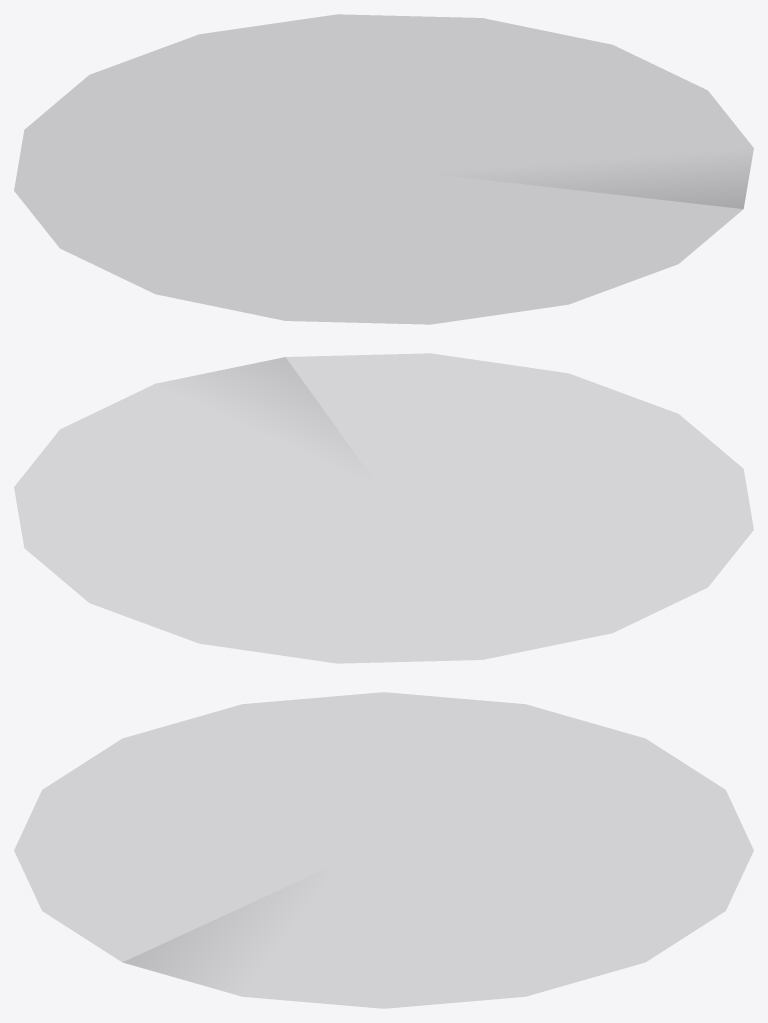
The picture shows the model from 3 angles, top to bottom: view 1: azimuth 30°, elevation 25°; view 2: azimuth 150°, elevation 25°; view 3: azimuth 270°, elevation 25°; orthographic projection.
Parts seen in each view (by area): view 1: Joint_0_Object_0; view 2: Joint_0_Object_0; view 3: Joint_0_Object_0.
Boxes of the visible parts, x1,y1,x2,y2 form: Joint_0_Object_0: (14,14,753,324); Joint_0_Object_0: (14,353,753,663); Joint_0_Object_0: (14,692,753,1008).
Size of the model in its own units: 686 by 3.72 by 677.
1 material, 1 textured.
